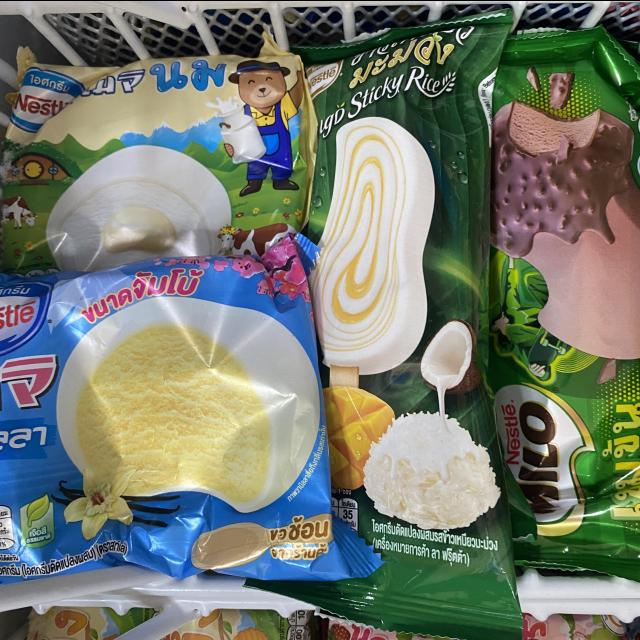plastik: (248, 9, 521, 640), (0, 233, 381, 583), (489, 26, 640, 581), (0, 33, 318, 273)
